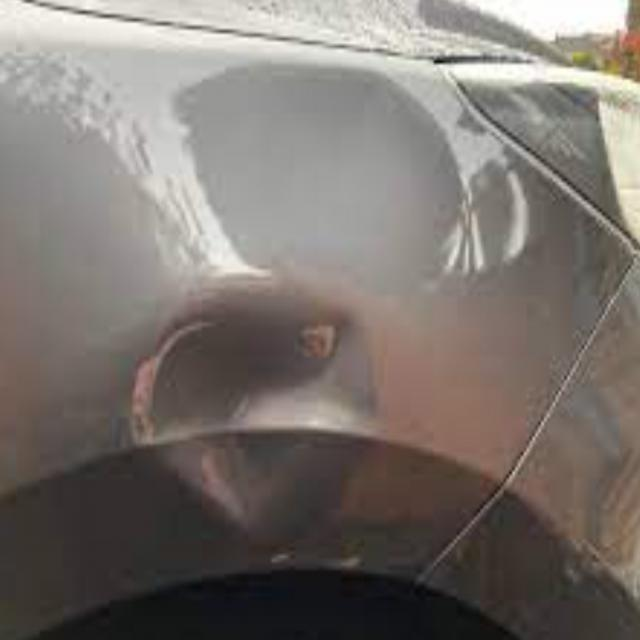dents: (139, 294, 372, 541)
